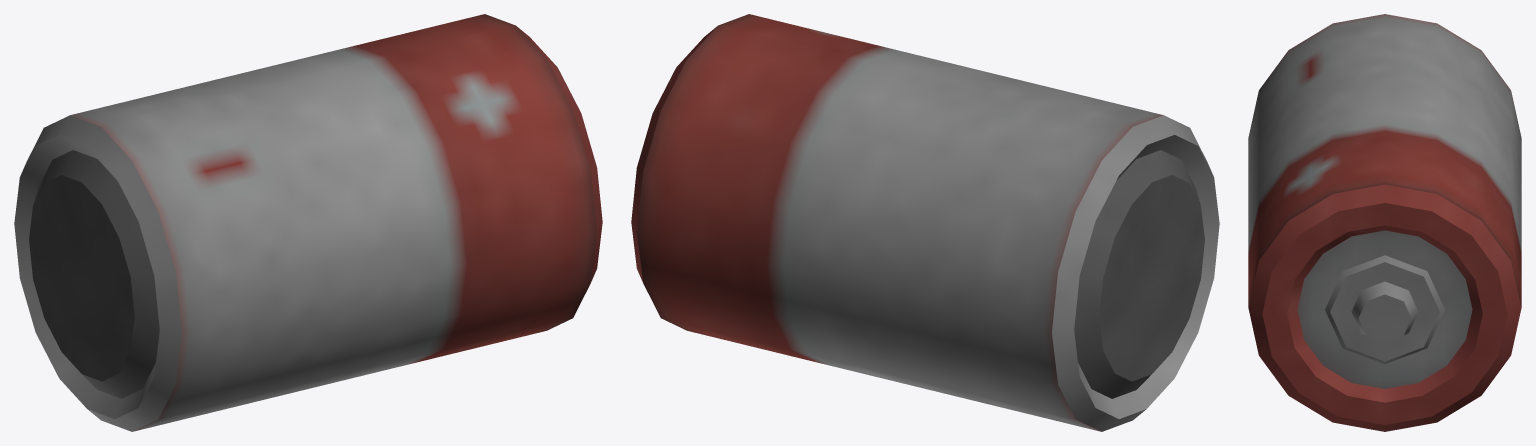
Rendered from battery_mp_2_1.obj.
The picture shows the model from 3 angles, left to right: view 1: azimuth 30°, elevation 25°; view 2: azimuth 150°, elevation 25°; view 3: azimuth 270°, elevation 25°; orthographic projection. The views are drawn at different scales.
Parts seen in each view (by area): view 1: battery_mp_2_1; view 2: battery_mp_2_1; view 3: battery_mp_2_1.
Part boxes in pixels (bbox=[...]): battery_mp_2_1: bbox=[14, 14, 602, 431]; battery_mp_2_1: bbox=[631, 14, 1219, 431]; battery_mp_2_1: bbox=[1248, 14, 1521, 431].
Bounding box in the file's own units: 0.0883 × 0.054 × 0.054.
